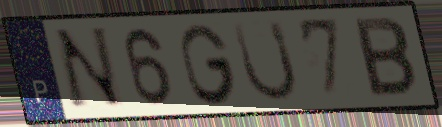6: (121, 24, 176, 108)
7: (295, 16, 344, 103)
B: (351, 15, 420, 100)
G: (177, 21, 241, 107)
N: (50, 24, 128, 114)
U: (229, 18, 301, 105)
